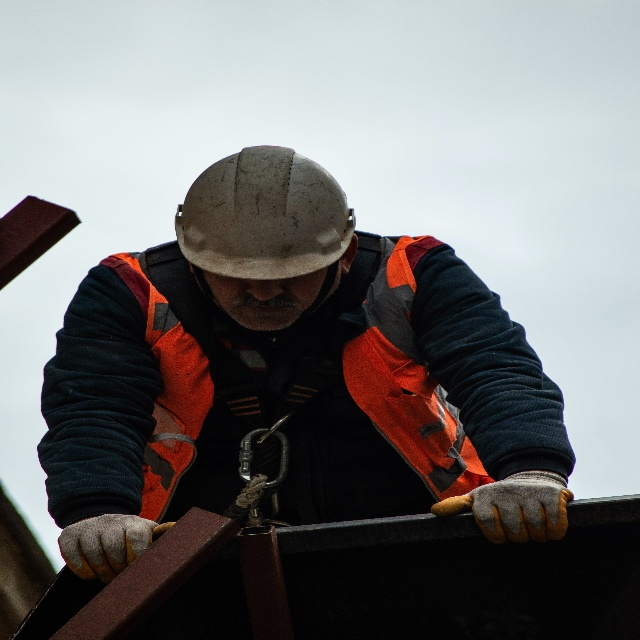Guantes: (430, 469, 574, 546), (58, 513, 176, 584)
